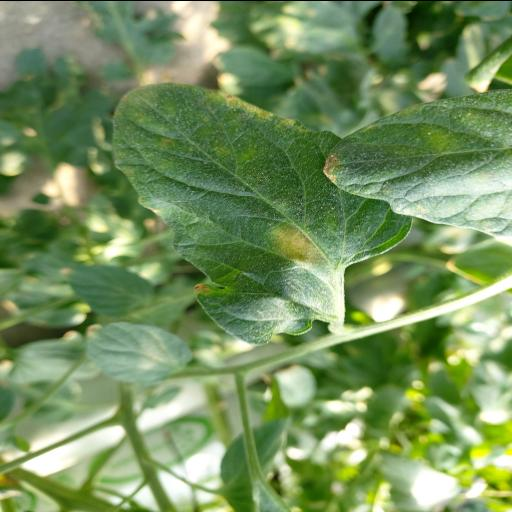disease_tomato: (110, 80, 412, 344)
